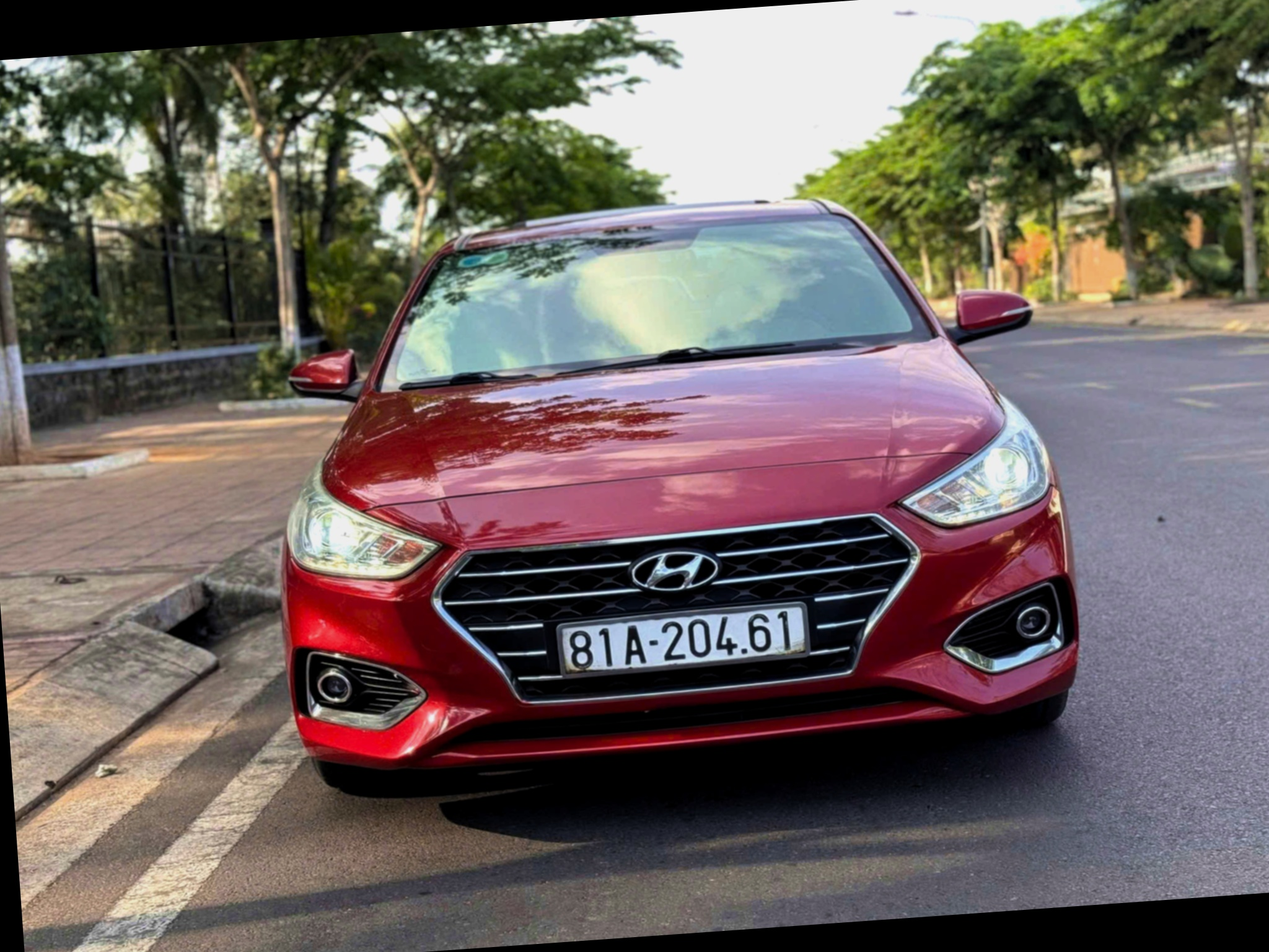Bien-so: (517, 616, 772, 680)
